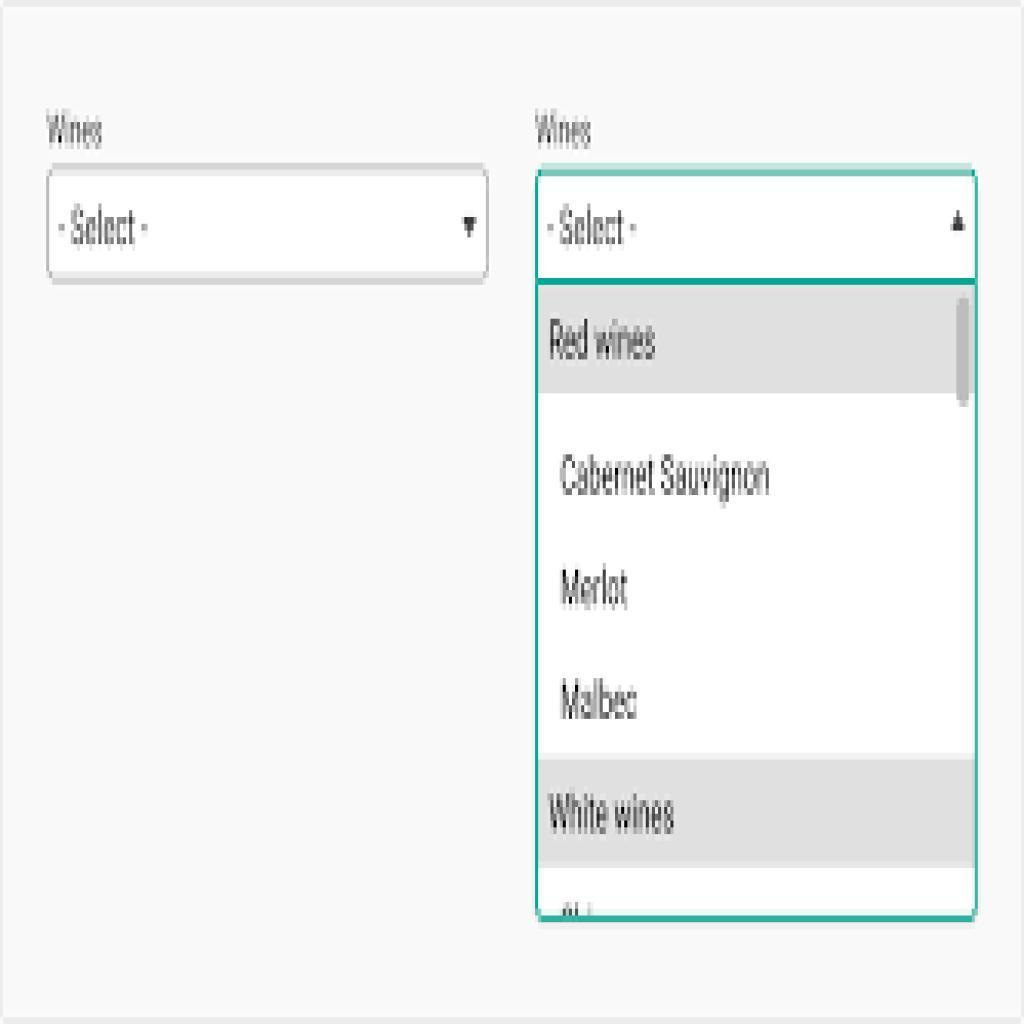dropdown: (48, 169, 490, 279), (538, 170, 976, 278)
